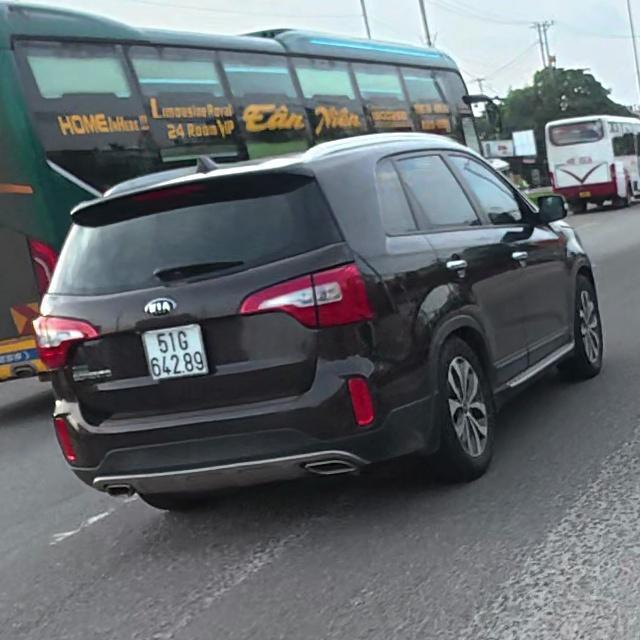car: (32, 132, 606, 510)
plate: (131, 318, 213, 383)
